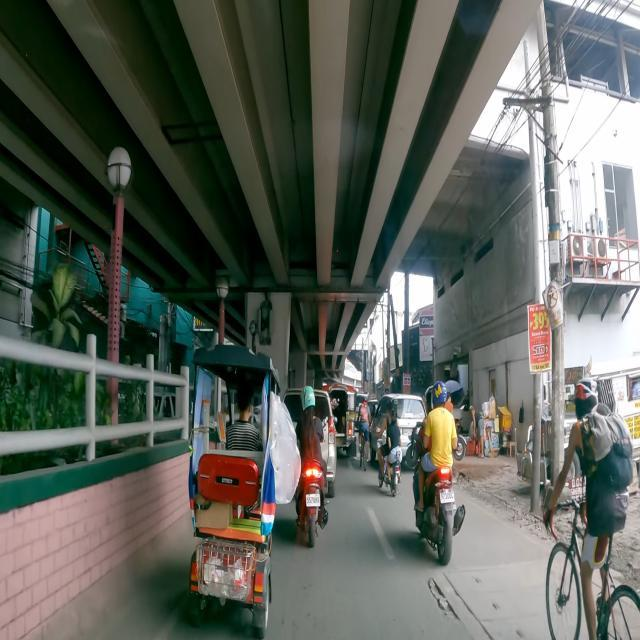bike: (543, 379, 640, 640), (357, 399, 372, 471)
car: (282, 388, 338, 499), (368, 394, 428, 474)
jeepney: (514, 352, 640, 492), (321, 382, 357, 460)
motorcycle: (412, 382, 466, 568), (294, 387, 328, 549), (374, 403, 402, 498)
tricycle: (185, 342, 282, 638)
